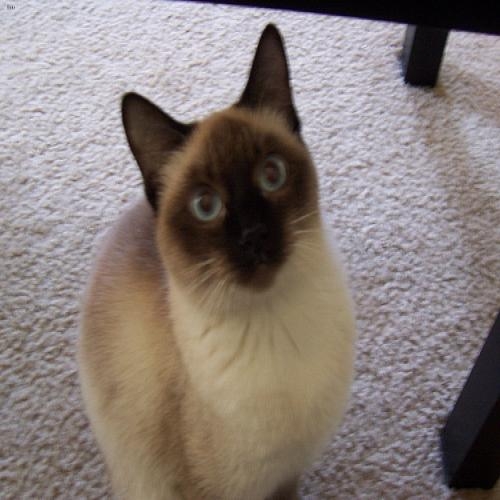siamese: (118, 16, 344, 330)
